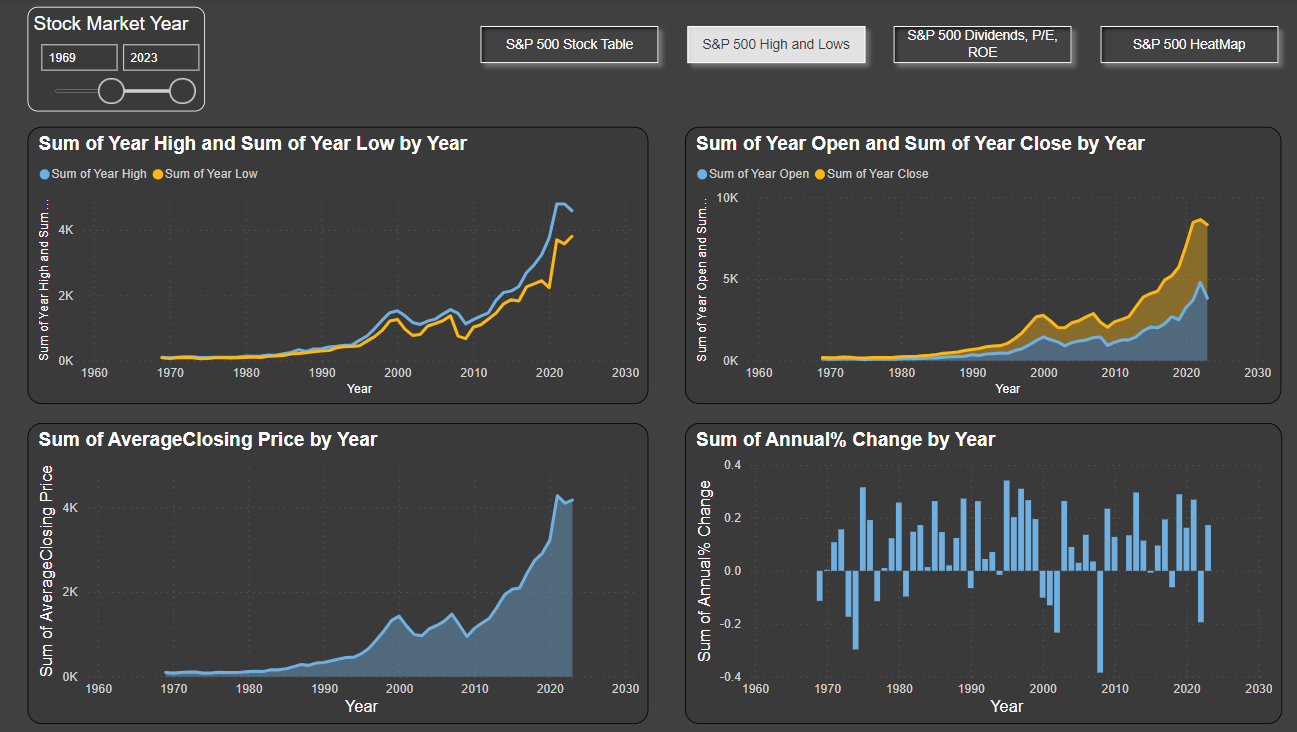

What the dashboard file says about the page in this screenshot:
{"tool":"powerbi","page":{"name":"S&P 500 High and Lows","canvas":[1280,720],"ordinal":1},"visuals":[{"type":"lineChart","fields":{"Category":["S&P 500 YTD Changes.Year"],"Y":["Sum(S&P 500 YTD Changes.Year High)","Sum(S&P 500 YTD Changes.Year Low)"]},"box":[31.8,125.9,607.5,271.4],"z":0},{"type":"stackedAreaChart","fields":{"Category":["S&P 500 YTD Changes.Year"],"Y":["Sum(S&P 500 YTD Changes.Year Open)","Sum(S&P 500 YTD Changes.Year Close)"]},"box":[674.8,125.9,583.1,271.4],"z":1000},{"type":"areaChart","fields":{"Y":["Sum(S&P 500 YTD Changes.AverageClosing Price)"],"Category":["S&P 500 YTD Changes.Year"]},"box":[32,415.6,607.5,294.7],"z":2000},{"type":"clusteredColumnChart","fields":{"Y":["Sum(S&P 500 YTD Changes.Annual% Change)"],"Category":["S&P 500 YTD Changes.Year"]},"box":[674.2,415.6,583.8,294.7],"z":3000},{"type":"slicer","title":"Stock Market Year","fields":{"Values":["S&P 500 YTD Changes.Year"]},"box":[31.8,8.6,173.6,102.7],"z":4000},{"type":"pageNavigator","box":[465.9,18.7,799.2,54.4],"z":5000}]}

Visuals, with their boxes in screenshot pixels (x1, y1, x2, y2), scaled from the page's 1280x720 canvas onto the 1297x732 screenshot:
lineChart - S&P 500 YTD Changes.Year x Sum(S&P 500 YTD Changes.Year High): region(32, 128, 648, 404)
stackedAreaChart - S&P 500 YTD Changes.Year x Sum(S&P 500 YTD Changes.Year Open): region(684, 128, 1275, 404)
areaChart - Sum(S&P 500 YTD Changes.AverageClosing Price) x S&P 500 YTD Changes.Year: region(32, 423, 648, 722)
clusteredColumnChart - Sum(S&P 500 YTD Changes.Annual% Change) x S&P 500 YTD Changes.Year: region(683, 423, 1275, 722)
"Stock Market Year" slicer: region(32, 9, 208, 113)
pageNavigator: region(472, 19, 1282, 74)
